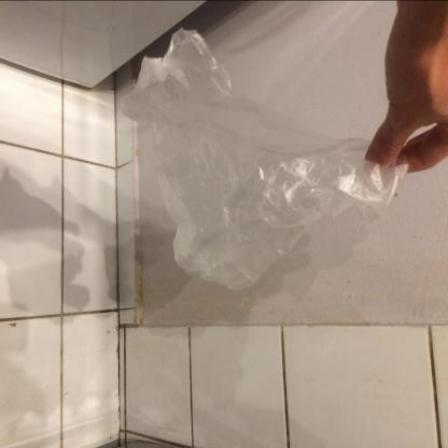Plastic bag - wrapper: (122, 28, 410, 290)
